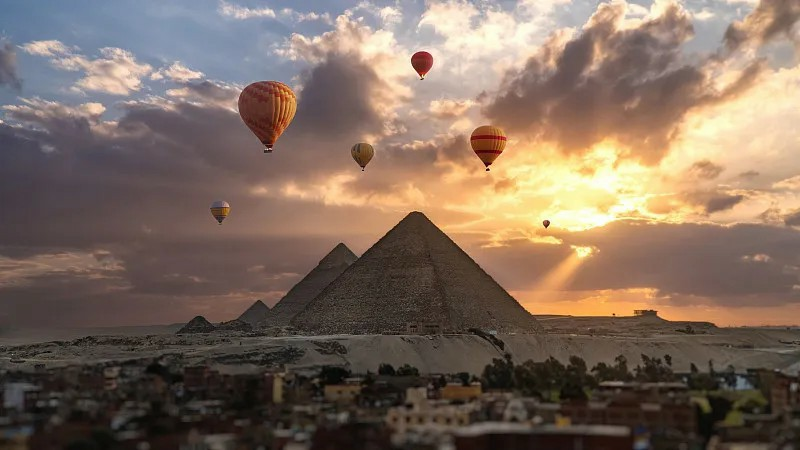Pyramid: (291, 211, 546, 333), (271, 243, 358, 332), (237, 299, 273, 327), (178, 316, 216, 334)
